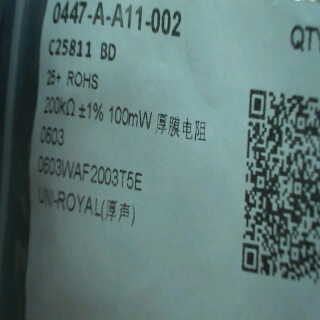200kR: (41, 93, 78, 120)
